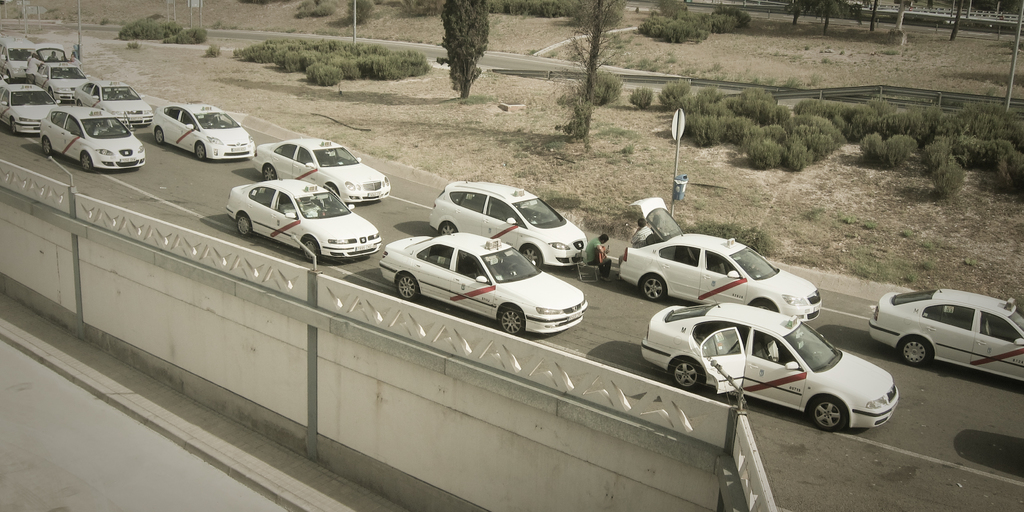car: (641, 288, 904, 442), (603, 170, 829, 326), (379, 216, 594, 344), (418, 160, 600, 277), (218, 170, 382, 264), (865, 261, 990, 378), (246, 121, 395, 206), (33, 97, 155, 177), (151, 90, 257, 165), (76, 73, 158, 128), (1, 78, 62, 138), (27, 45, 90, 98), (0, 31, 39, 82)
